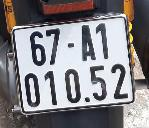0: (21, 72, 42, 110), (64, 68, 83, 104)
1: (96, 20, 115, 61), (43, 69, 63, 107)
2: (112, 61, 131, 100)
5: (89, 63, 110, 103)
6: (28, 31, 48, 66)
7: (45, 28, 63, 66)
A: (78, 24, 96, 63)
